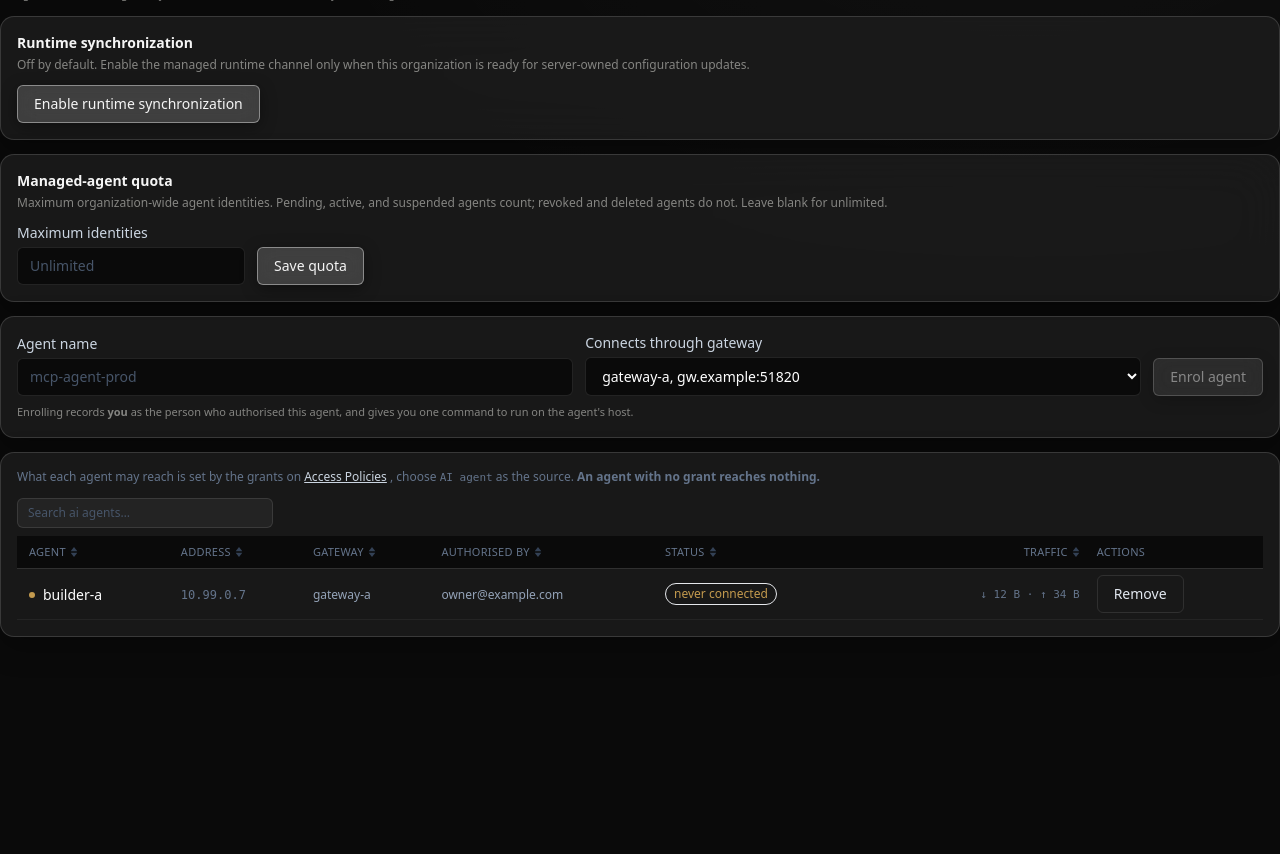
released Agents route, F04 runtime facts › renders stale last-good server facts instead of hiding the runtime panel
The image size is (1280, 854).
Click the button with aria-label "Open builder-a": (66, 594) left=29, top=584, right=102, bottom=604
(page scrolled)
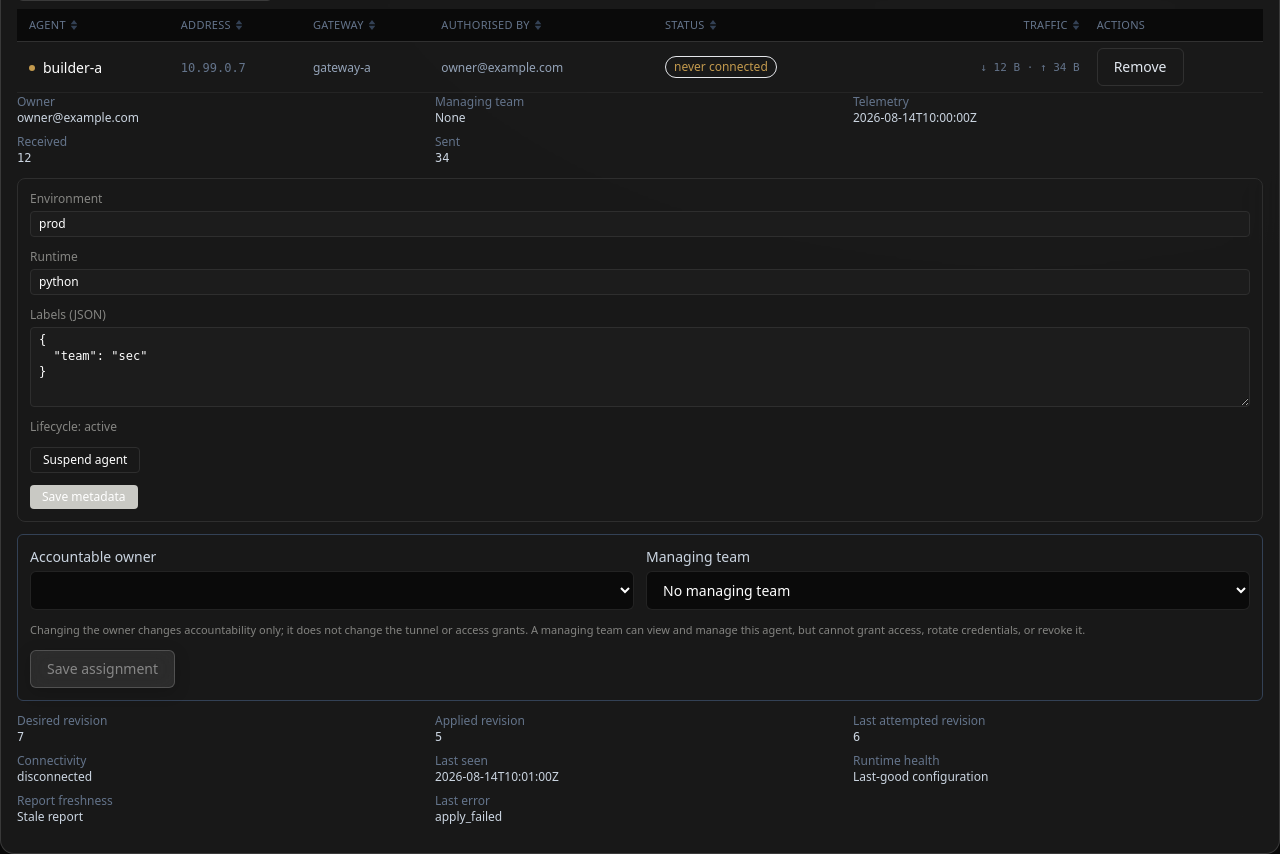
Result: the element with test id "agent-runtime-status" is shown at left=17, top=712, right=988, bottom=824
Result: the text "Last-good configuration" is shown at left=853, top=768, right=988, bottom=784
Result: the text "Stale report" is shown at left=17, top=808, right=83, bottom=824
